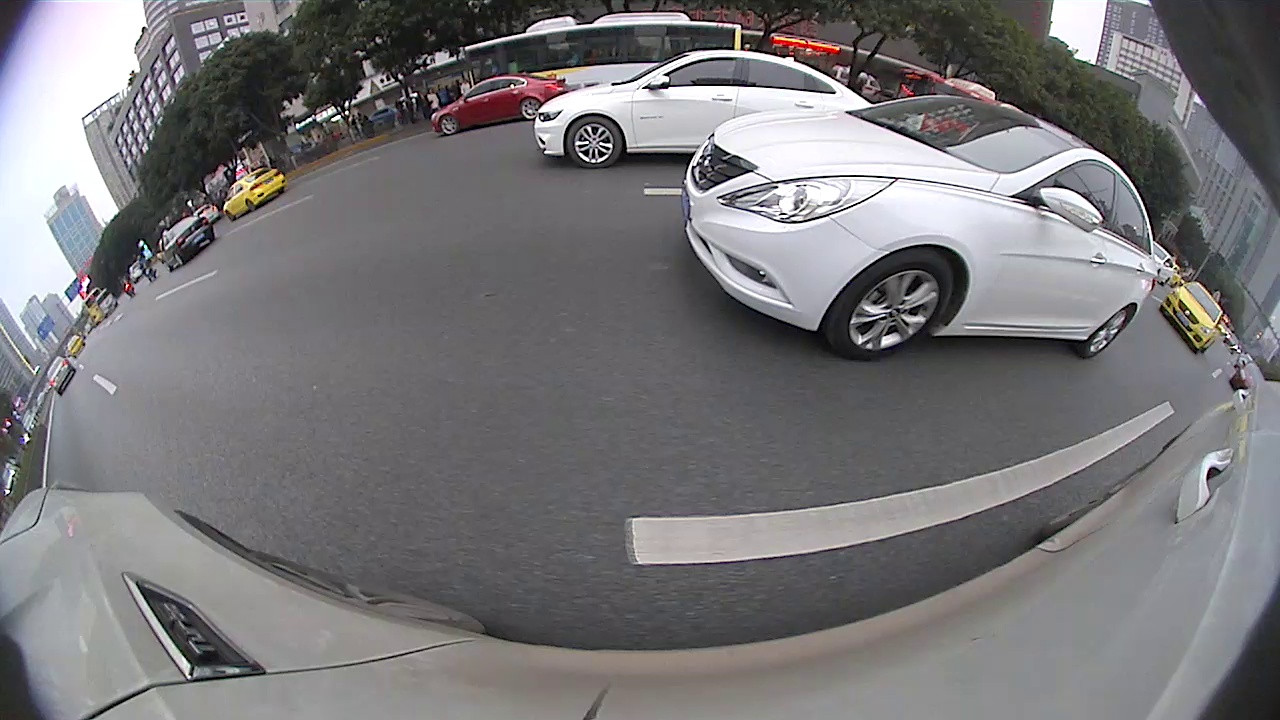bus: (460, 13, 744, 107)
car: (680, 94, 1156, 361), (533, 48, 910, 169), (430, 76, 570, 138), (1159, 282, 1225, 356), (223, 167, 288, 222), (157, 214, 217, 273), (45, 357, 76, 396)
front: (826, 252, 958, 360), (566, 116, 620, 167), (441, 116, 456, 134)
rear: (1081, 308, 1133, 357), (523, 100, 541, 119)
